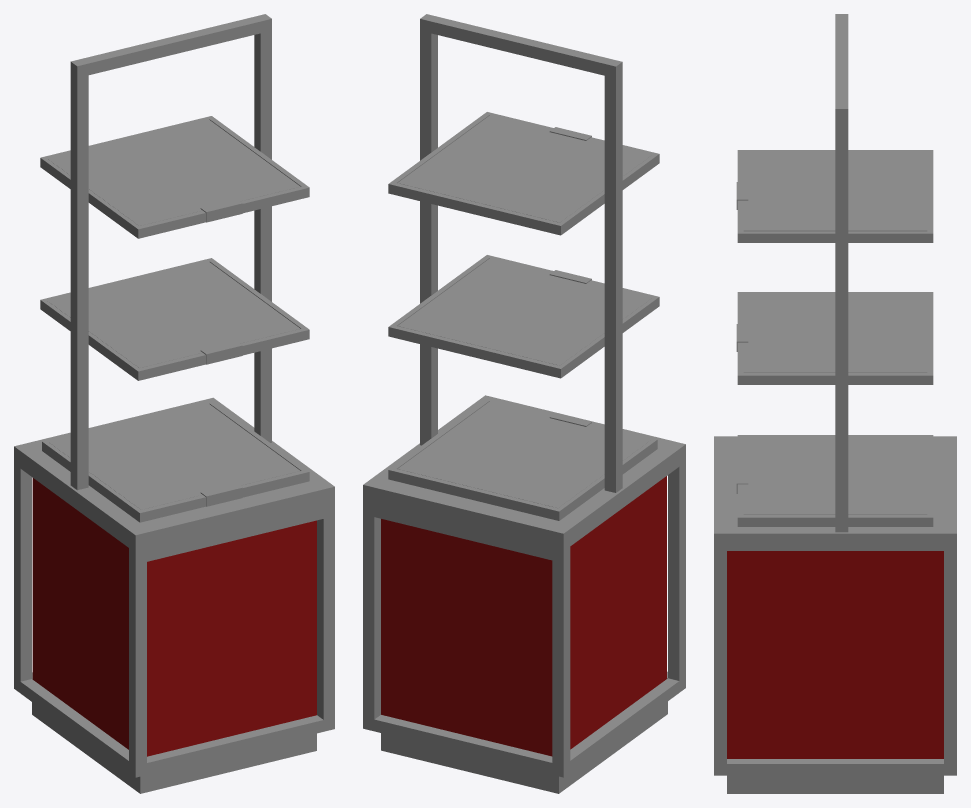
File: Shelf_Inside_Base_1_Rectangle3091_Shelf_Inside_Base_1_Rectangle3091.FBX
The picture shows the model from 3 angles, left to right: view 1: azimuth 30°, elevation 25°; view 2: azimuth 150°, elevation 25°; view 3: azimuth 270°, elevation 25°; orthographic projection.
Parts seen in each view (by area): view 1: Shelf_Inside_Base_1_Rectangle3091_Shelf_Inside_Base_1_Rectan; view 2: Shelf_Inside_Base_1_Rectangle3091_Shelf_Inside_Base_1_Rectan; view 3: Shelf_Inside_Base_1_Rectangle3091_Shelf_Inside_Base_1_Rectan.
Part boxes in pixels (box(x1,y1,x2,y2)): Shelf_Inside_Base_1_Rectangle3091_Shelf_Inside_Base_1_Rectan: box(14, 14, 334, 793); Shelf_Inside_Base_1_Rectangle3091_Shelf_Inside_Base_1_Rectan: box(363, 14, 685, 793); Shelf_Inside_Base_1_Rectangle3091_Shelf_Inside_Base_1_Rectan: box(714, 14, 956, 793).
Bounding box in the file's own units: 45.85 × 152 × 48.41.
